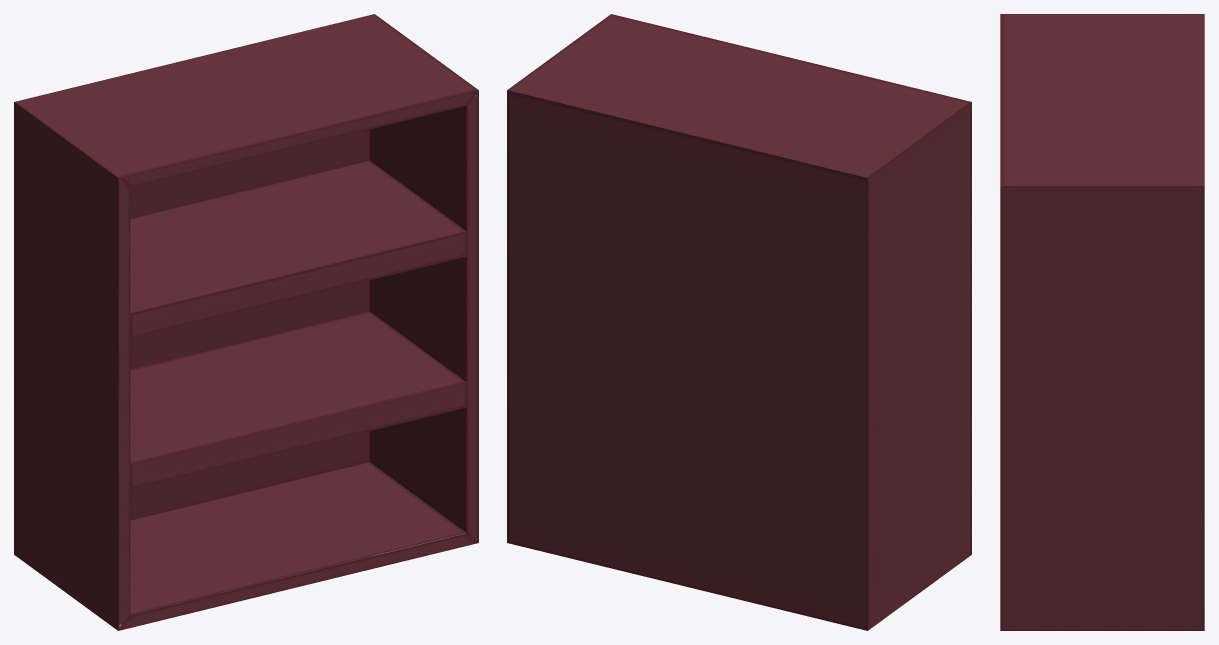
File: Camera_AlbumShelf.fbx
3 renders of one model, left to right at view 1: azimuth 30°, elevation 25°; view 2: azimuth 150°, elevation 25°; view 3: azimuth 270°, elevation 25°, orthographic.
Parts seen in each view (by area): view 1: Box001; view 2: Box001; view 3: Box001.
Boxes of the visible parts, x1=… form: Box001: x1=14, y1=14, x2=478, y2=630; Box001: x1=507, y1=14, x2=971, y2=630; Box001: x1=1000, y1=14, x2=1204, y2=630.
Bounding box in the file's own units: 60 × 72 × 30.
Materials: 1 (1 with a texture image).
